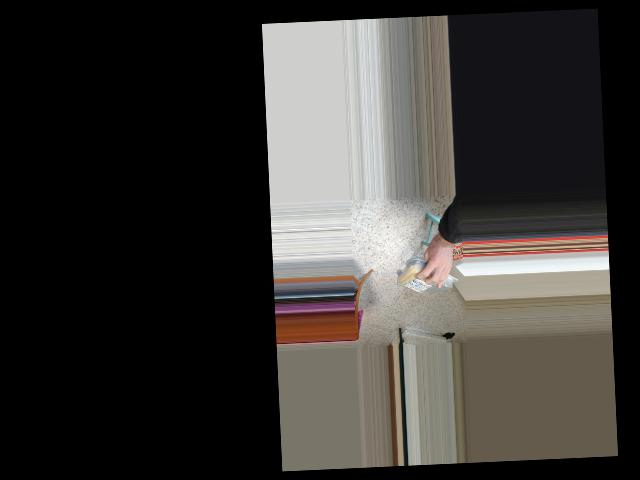cheese: (396, 262, 458, 294)
